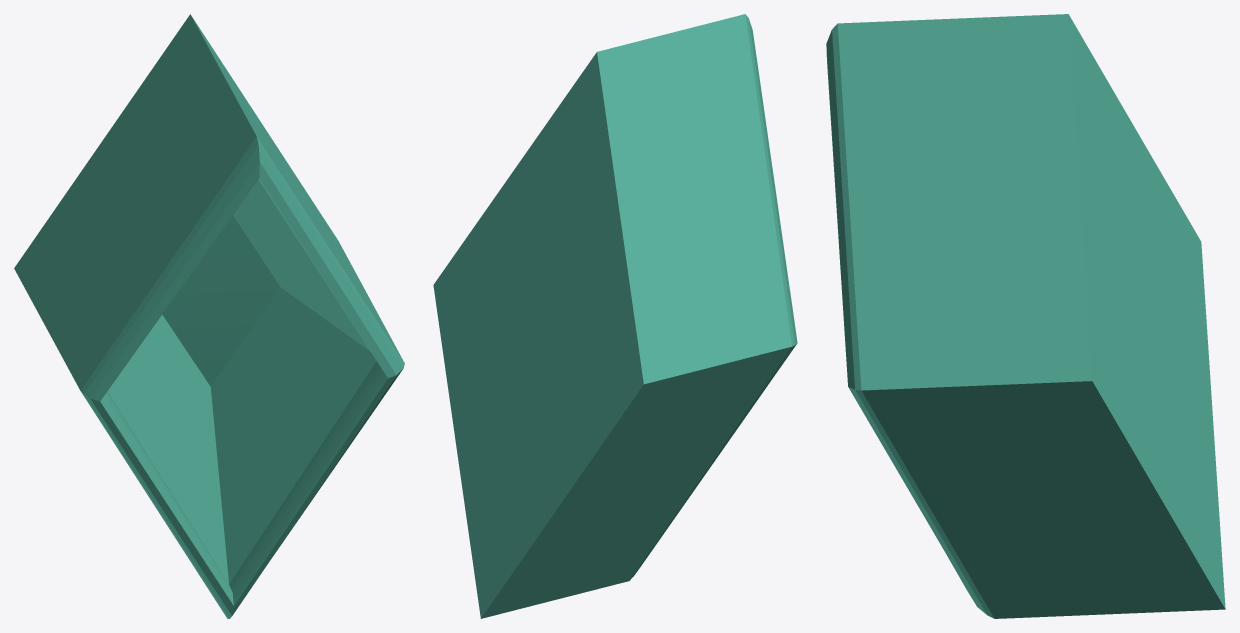
Rendered from BL2_8shapes_Kite_Classic_Metal.001 2.glb.
The picture shows the model from 3 angles, left to right: view 1: azimuth 30°, elevation 25°; view 2: azimuth 150°, elevation 25°; view 3: azimuth 270°, elevation 25°; orthographic projection. The views are drawn at different scales.
Visible parts, largest first — view 1: BL2_8shapes_Kite_Classic_Metal.001; view 2: BL2_8shapes_Kite_Classic_Metal.001; view 3: BL2_8shapes_Kite_Classic_Metal.001.
Part boxes in pixels (x1,y1,x2,y2): BL2_8shapes_Kite_Classic_Metal.001: [14, 14, 404, 618]; BL2_8shapes_Kite_Classic_Metal.001: [433, 14, 797, 618]; BL2_8shapes_Kite_Classic_Metal.001: [826, 14, 1225, 618].
Bounding box in the file's own units: 0.3569 × 0.6243 × 0.3739.
